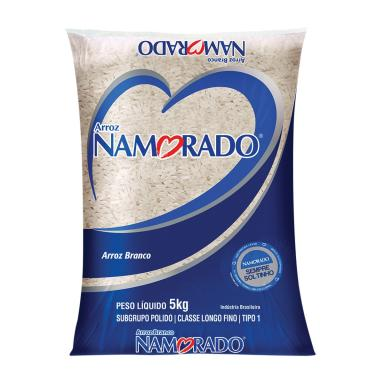rice package: (69, 31, 313, 354)
